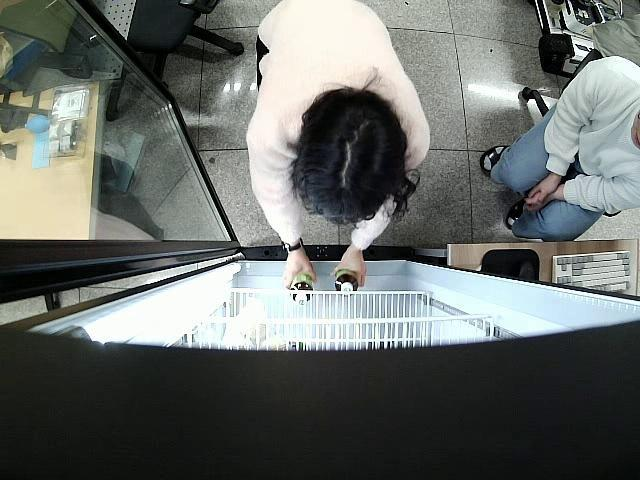19_17cha: (290, 274, 314, 306), (336, 270, 359, 298)
